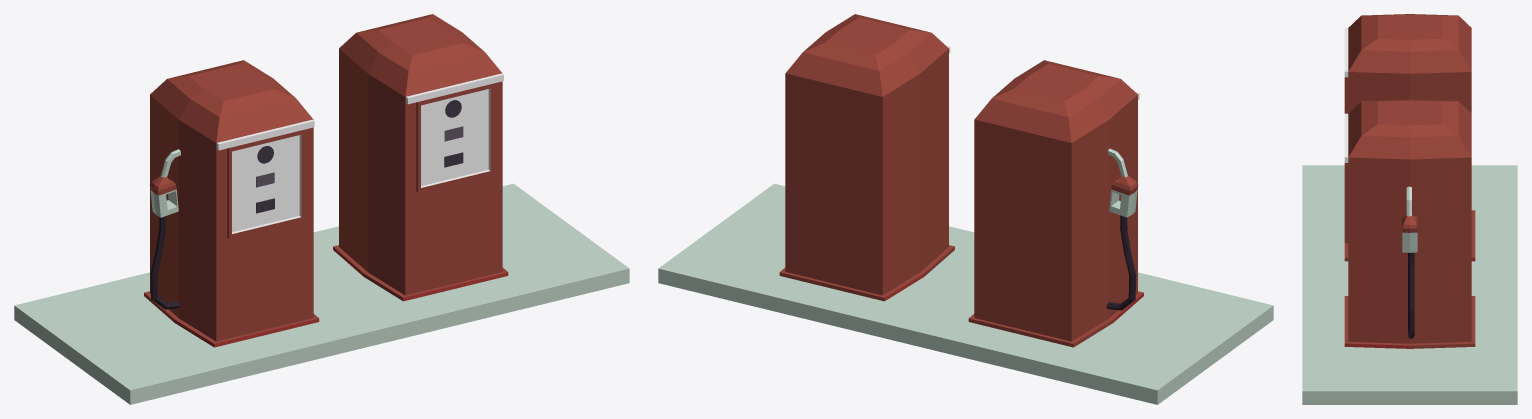
The model's file is GasStation.fbx.
3 views of the same model, side by side, from view 1: azimuth 30°, elevation 25°; view 2: azimuth 150°, elevation 25°; view 3: azimuth 270°, elevation 25° (orthographic). The views are drawn at different scales.
Visible parts, largest first — view 1: GasStation; view 2: GasStation; view 3: GasStation.
Boxes of the visible parts, <box> form: GasStation: <box>14,14,629,404</box>; GasStation: <box>658,14,1273,404</box>; GasStation: <box>1302,14,1517,404</box>.
Bounding box in the file's own units: 8.68 × 4 × 3.5.
